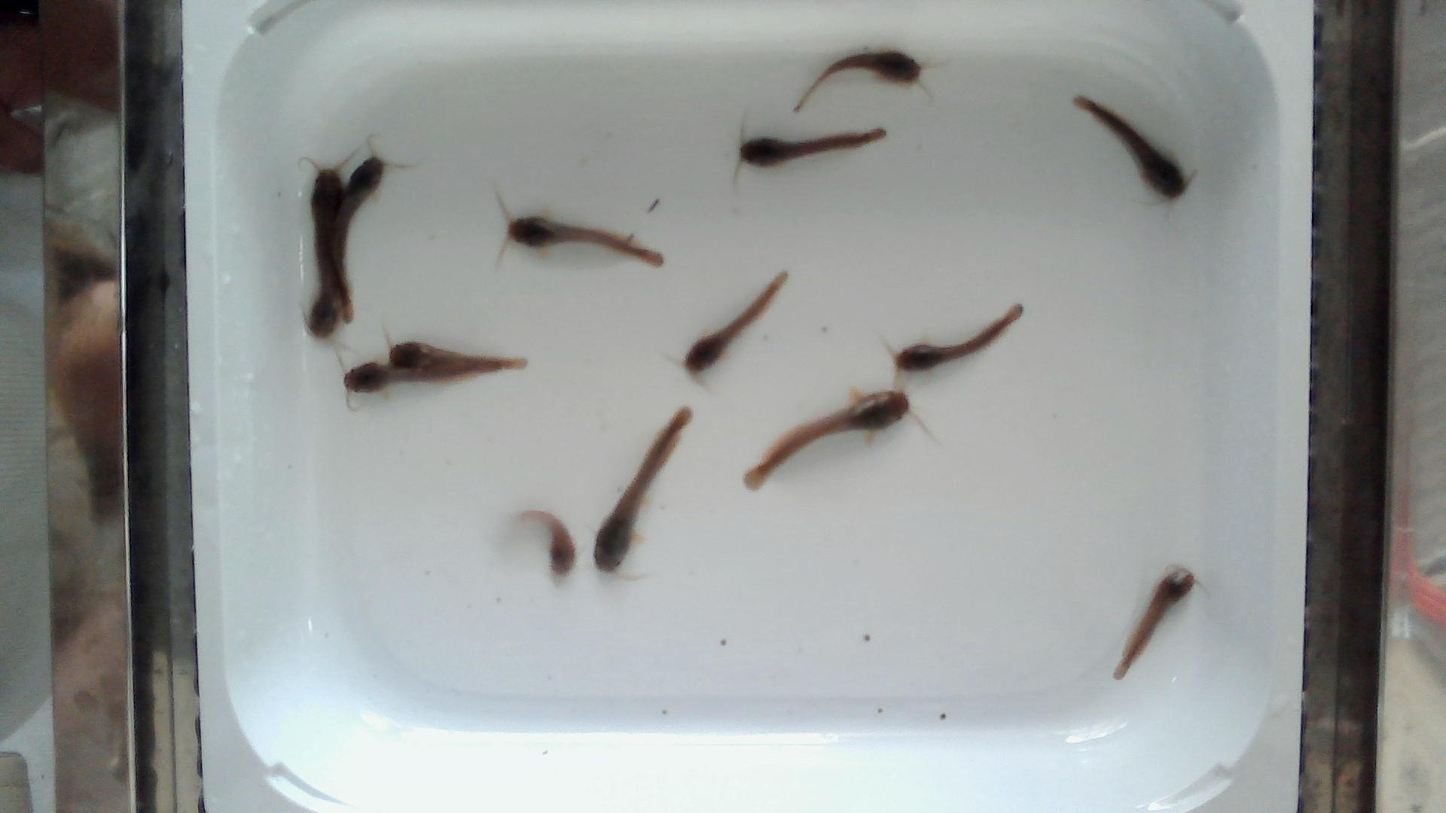lele: (594, 406, 692, 573), (744, 390, 908, 489), (1075, 96, 1191, 199), (683, 272, 786, 374), (1114, 567, 1194, 679), (895, 304, 1023, 370), (330, 158, 383, 317), (508, 215, 664, 266), (795, 49, 921, 110), (740, 128, 886, 166), (310, 168, 343, 313), (390, 340, 525, 372), (346, 361, 479, 392), (520, 510, 575, 577), (312, 235, 336, 340)
